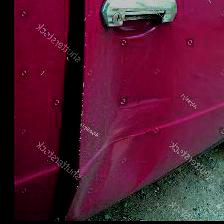door_dent: (91, 15, 194, 205)
